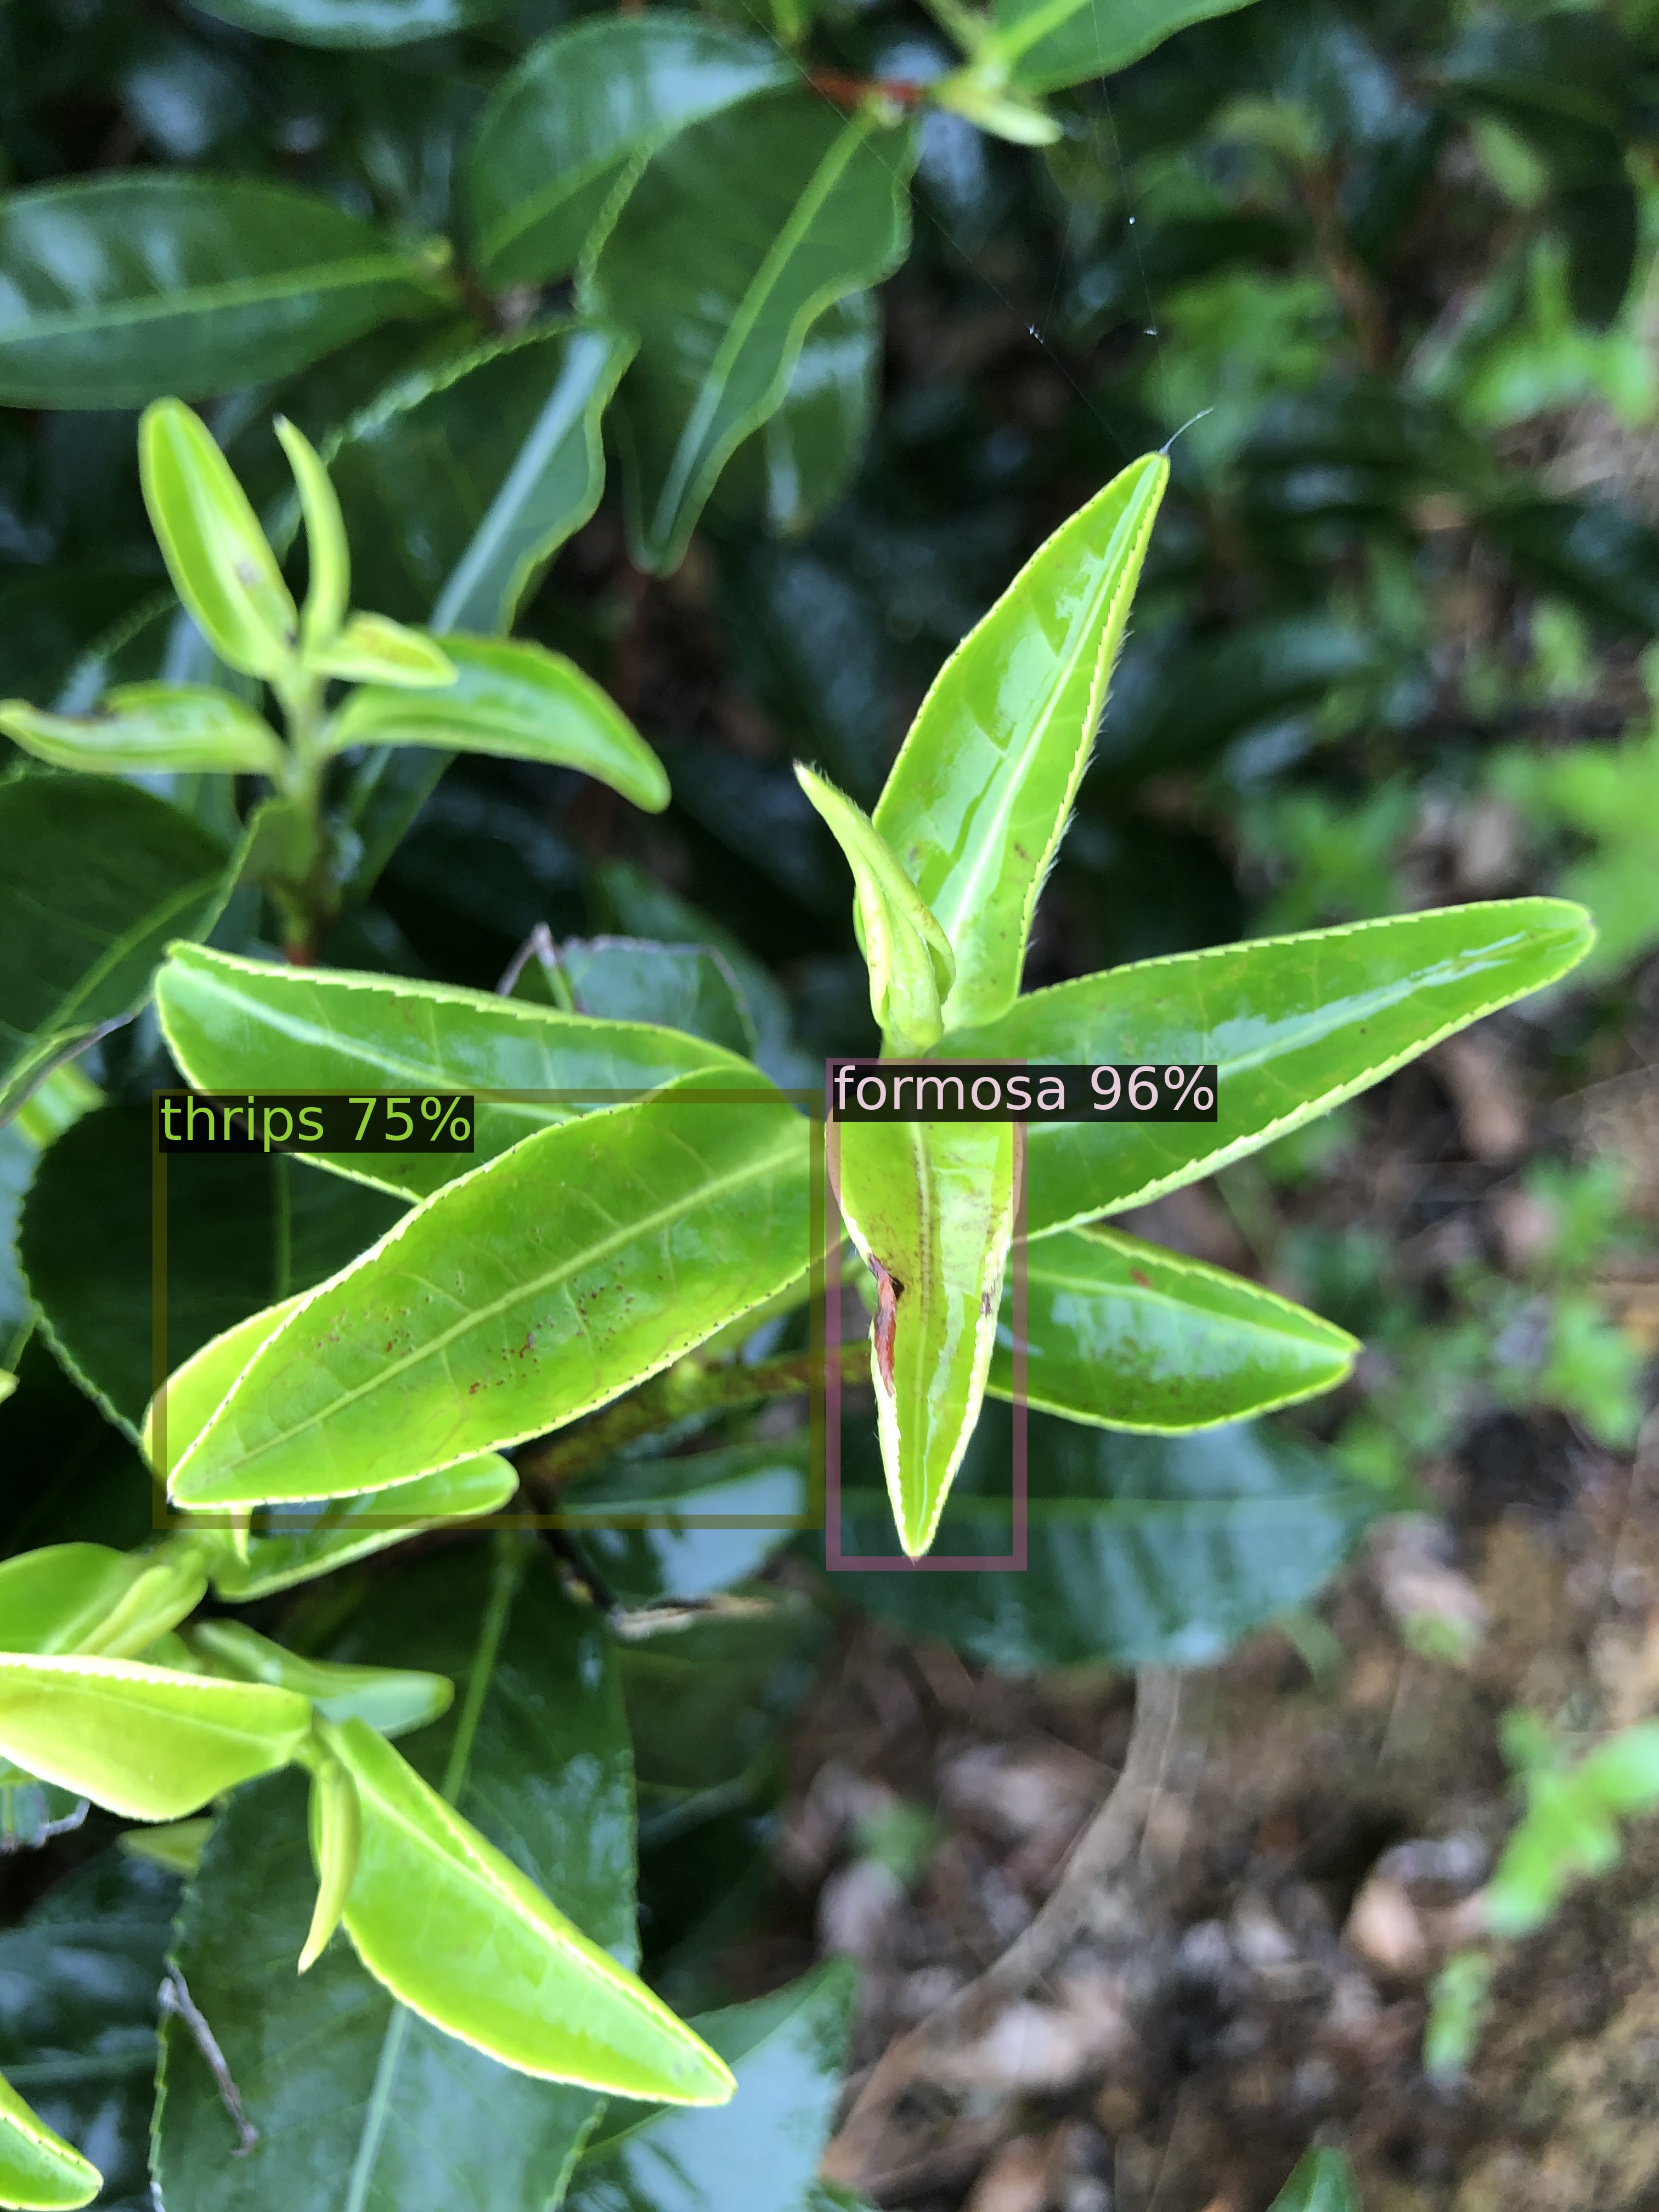formosa: (833, 1064, 1019, 1564)
thrips: (160, 1096, 817, 1522)
